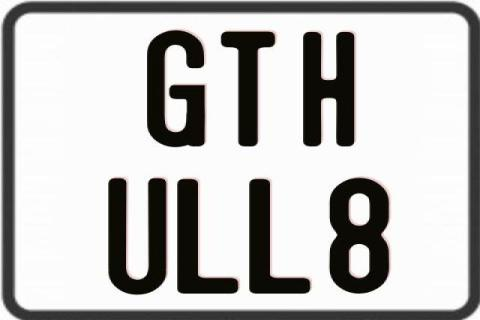0: (326, 176, 386, 296)
G: (144, 29, 205, 150)
H: (300, 31, 354, 145)
L: (174, 179, 241, 297), (248, 179, 314, 295)
T: (220, 30, 278, 146)
U: (108, 176, 172, 295)
